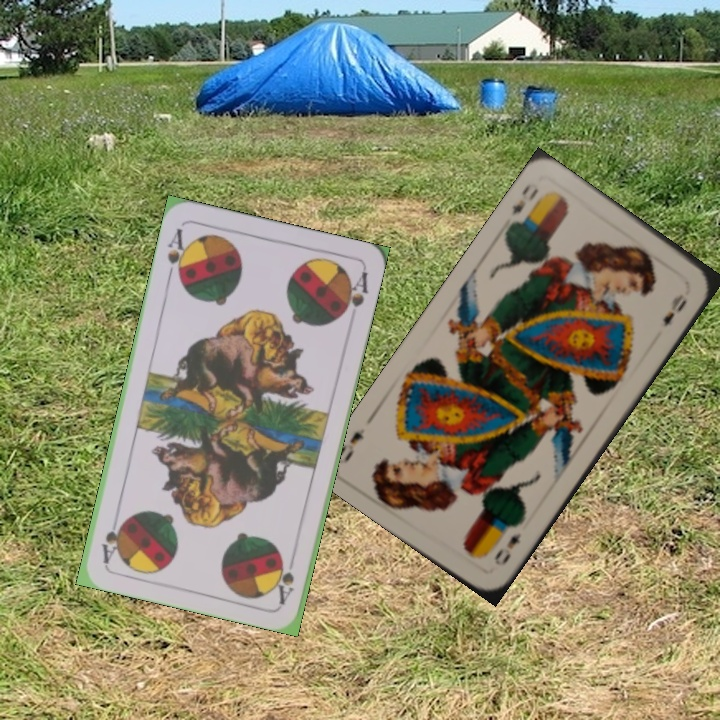EO: (490, 529, 524, 569), (507, 179, 541, 219)
SA: (163, 224, 191, 284), (273, 548, 299, 606)
